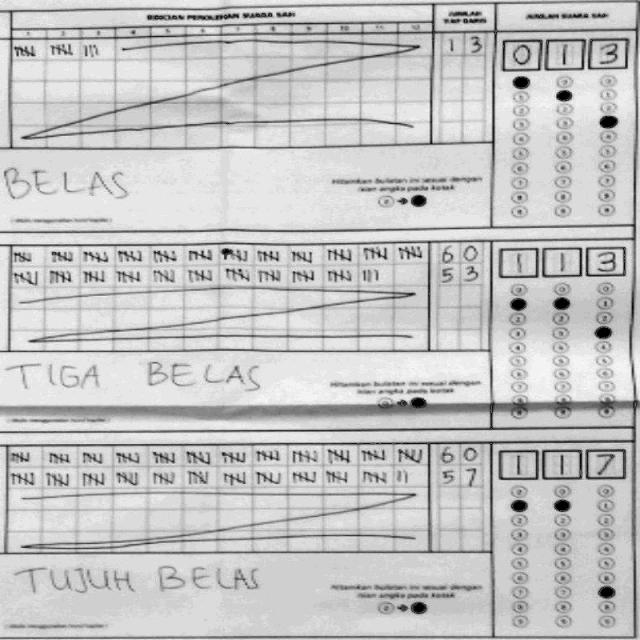Suara: (494, 440, 630, 482), (498, 32, 628, 70), (494, 242, 628, 276)
